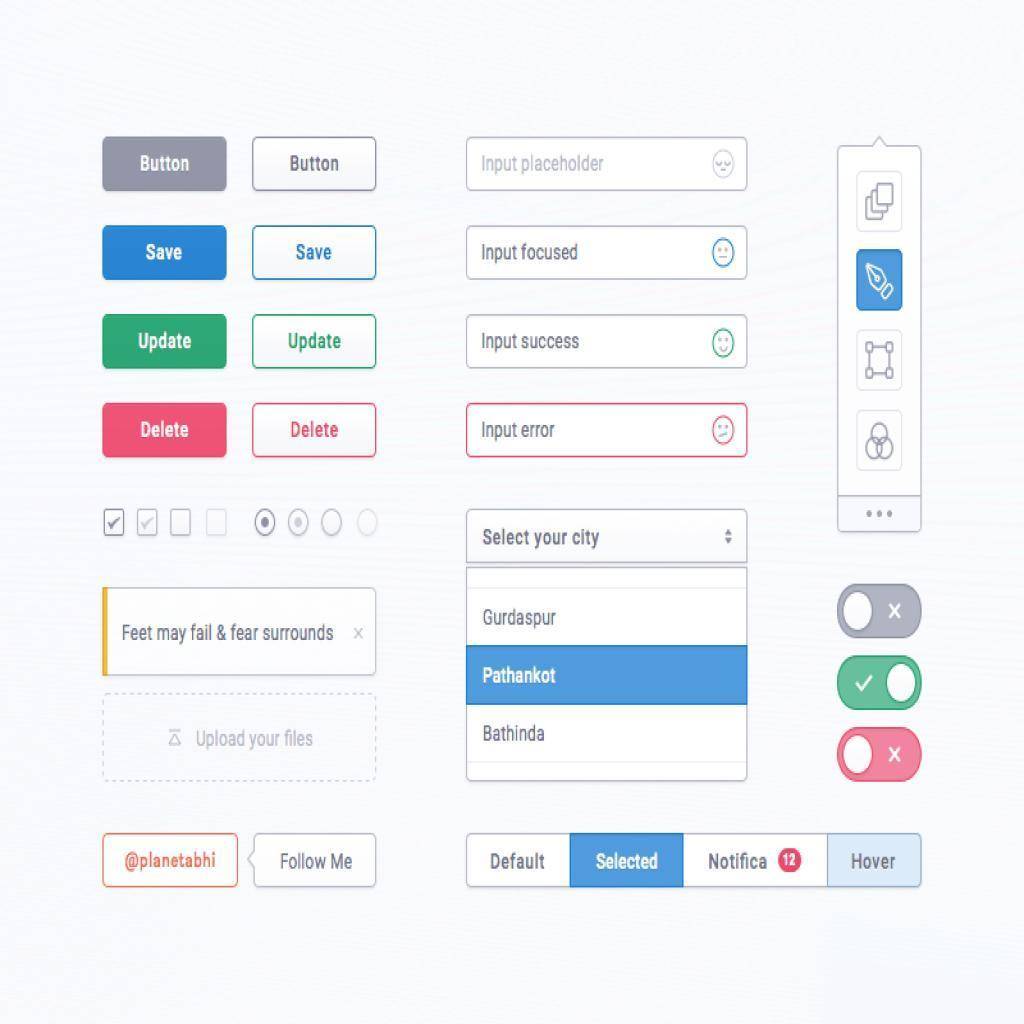button: (466, 645, 748, 706), (102, 834, 241, 889), (684, 834, 828, 887), (570, 834, 685, 889), (466, 834, 571, 888), (828, 833, 923, 887)
checkbox: (104, 313, 228, 372), (104, 138, 229, 194), (253, 226, 377, 282), (105, 406, 229, 460), (253, 315, 377, 369), (255, 138, 377, 192), (106, 226, 226, 280), (255, 405, 377, 457), (136, 508, 161, 538), (170, 509, 194, 539), (206, 509, 230, 538), (104, 509, 127, 538)
dropdown: (466, 509, 749, 564)
icon: (856, 249, 905, 313), (857, 329, 904, 394), (856, 411, 905, 471), (857, 172, 902, 234), (865, 506, 896, 524)
input: (105, 589, 378, 675), (469, 228, 747, 283), (469, 315, 749, 369), (467, 403, 747, 456), (469, 139, 747, 190)
radio: (252, 508, 279, 540), (285, 507, 311, 539), (320, 507, 345, 539), (356, 508, 380, 540)
switch: (837, 654, 923, 713), (837, 583, 924, 641), (836, 727, 924, 784)
